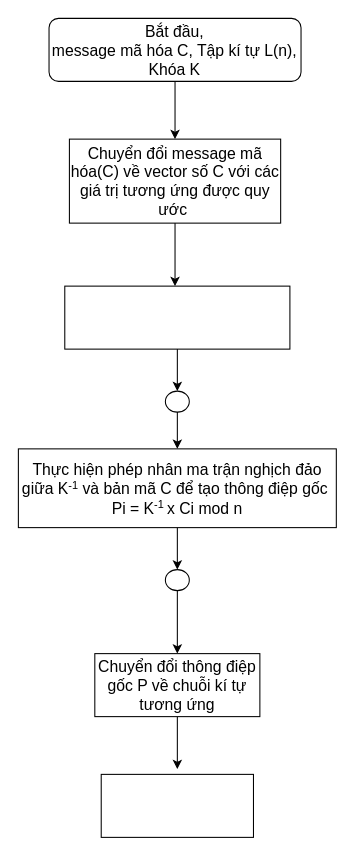
Some shapes in this 355 by 856 pixel diagram are drawn without their labels. The shapes that lost their labels are listed below. From the top down, each one's box as (x1, y1, x2, y2) in pixels, then its label:
(64, 285, 290, 349): Lặp từ i = 1 -> N, Với N = (độ dài của message)/m
(100, 773, 253, 837): Thu được message gốc ban đầu
